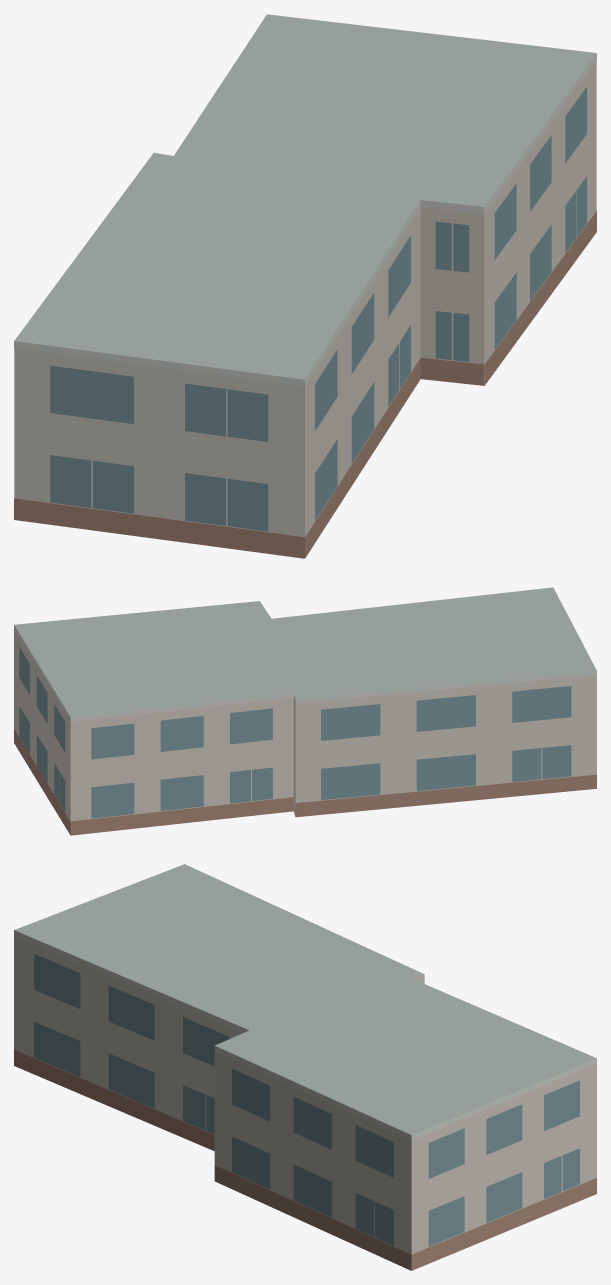
The model's file is survey-upis-32929985.glb.
The picture shows the model from 3 angles, top to bottom: view 1: azimuth 30°, elevation 25°; view 2: azimuth 150°, elevation 25°; view 3: azimuth 270°, elevation 25°; orthographic projection. The views are drawn at different scales.
Visible parts, largest first — view 1: survey-upis-32929985.tmp; view 2: survey-upis-32929985.tmp; view 3: survey-upis-32929985.tmp.
Part boxes in pixels (x1,y1,x2,y2): survey-upis-32929985.tmp: [14, 14, 596, 558]; survey-upis-32929985.tmp: [14, 587, 596, 835]; survey-upis-32929985.tmp: [14, 864, 596, 1270].
Size of the model in its own units: 26.13 by 6.1 by 23.74.
